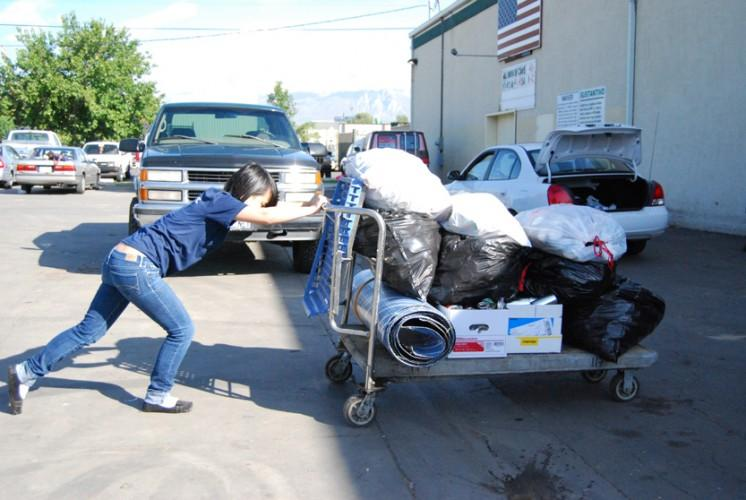person: (7, 164, 335, 416)
